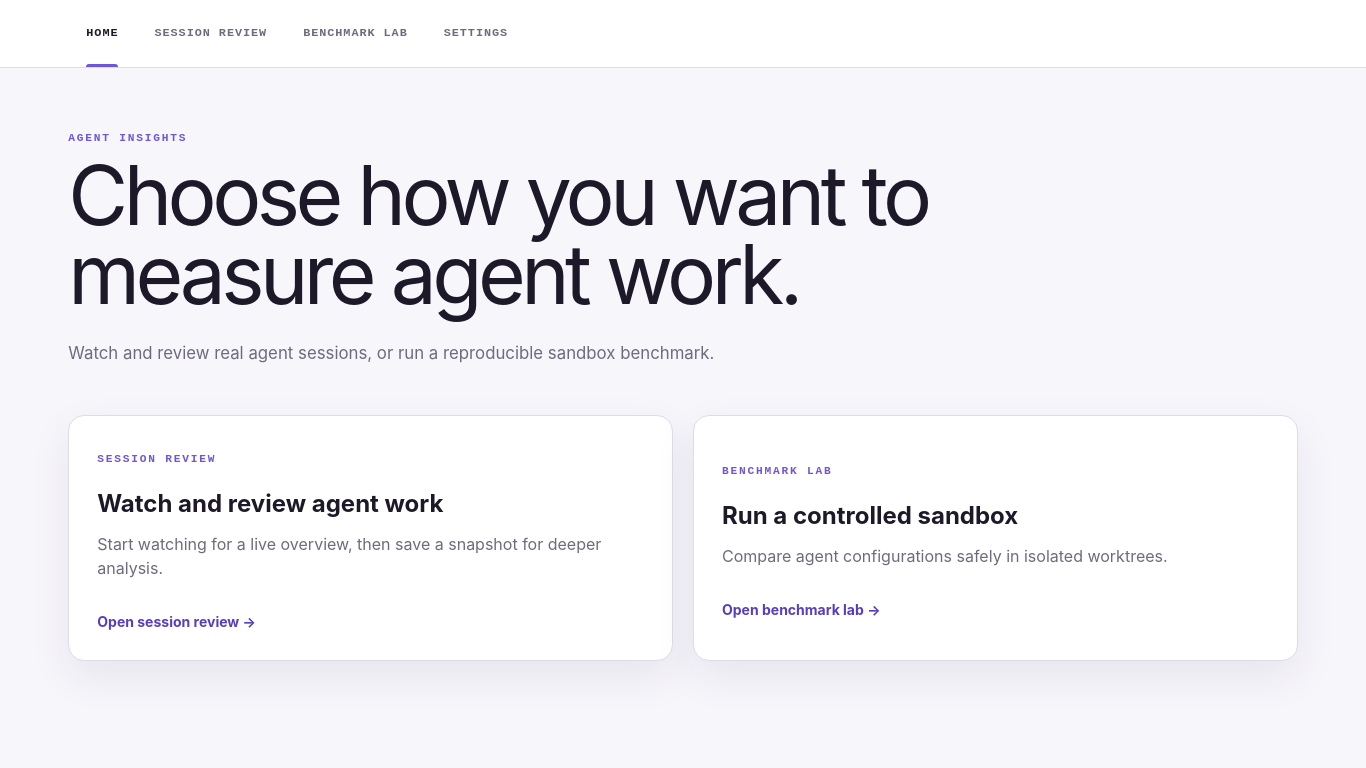
Scenario: shows only the latest run in Benchmark Lab and every run in Benchmark History
Click the button "Benchmark Lab".
click(355, 34)  # box x1=285 y1=0 x2=426 y2=67
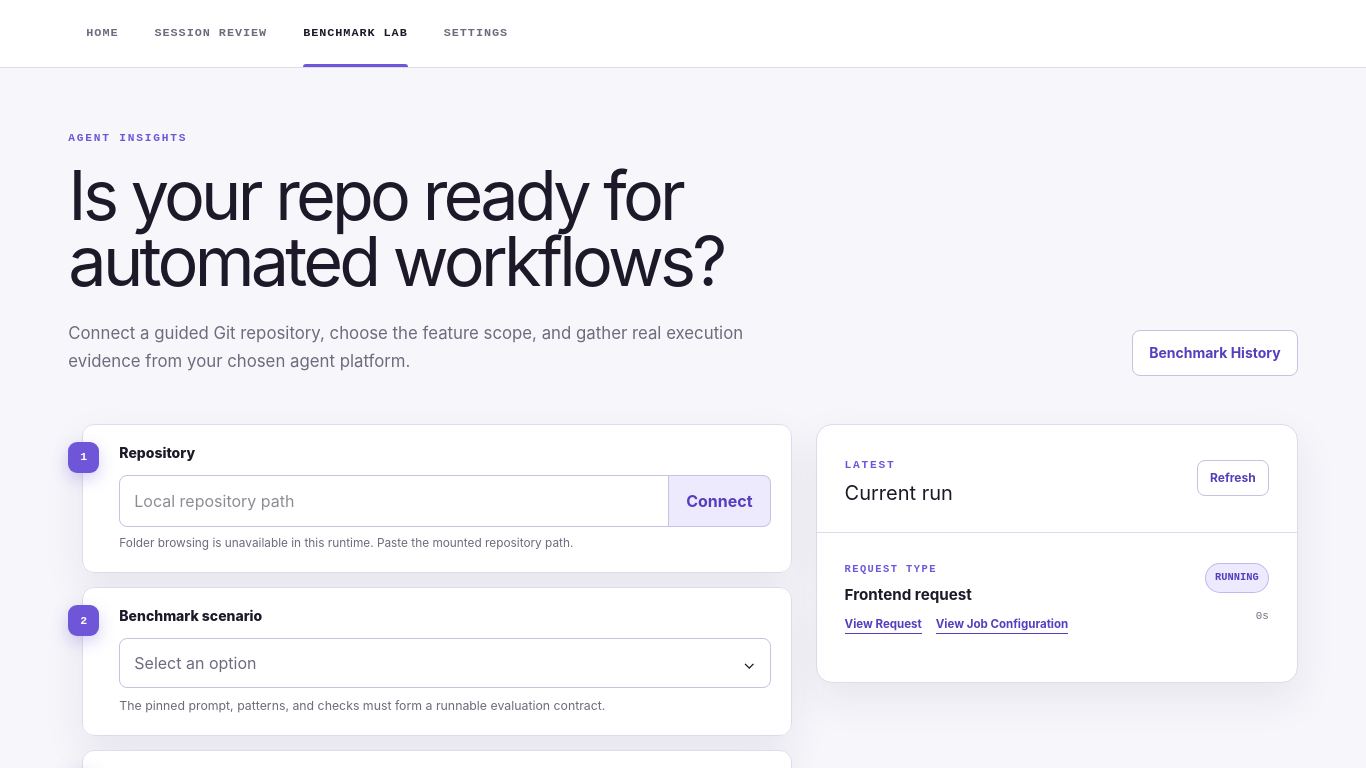
Expected: the text "interrupted" is not shown
Expected: the text "Frontend request" is shown, x1=844 y1=585 x2=972 y2=604
Click the button "View Request".
click(883, 625)  # box x1=844 y1=616 x2=922 y2=634
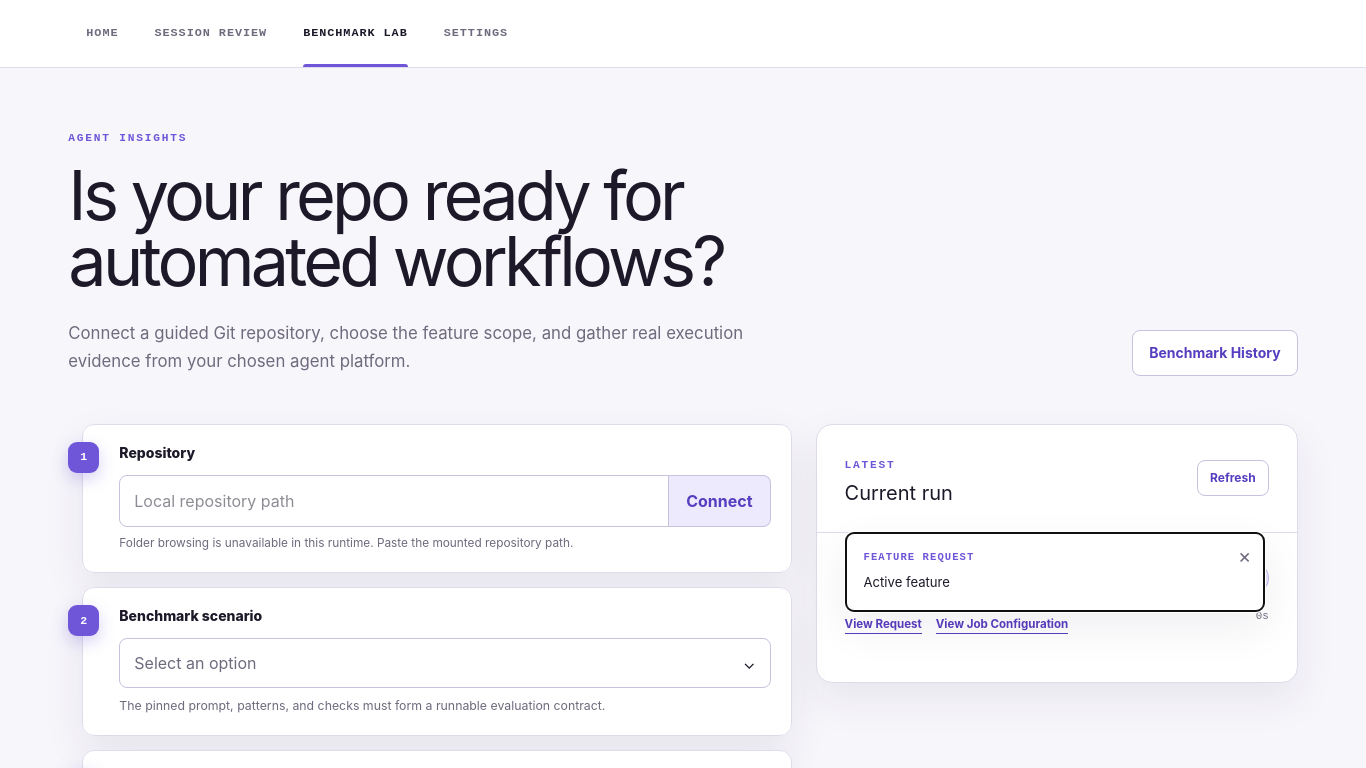
Expected: the dialog "Feature request" shows "Active feature", x1=864 y1=574 x2=950 y2=590
Press Escape
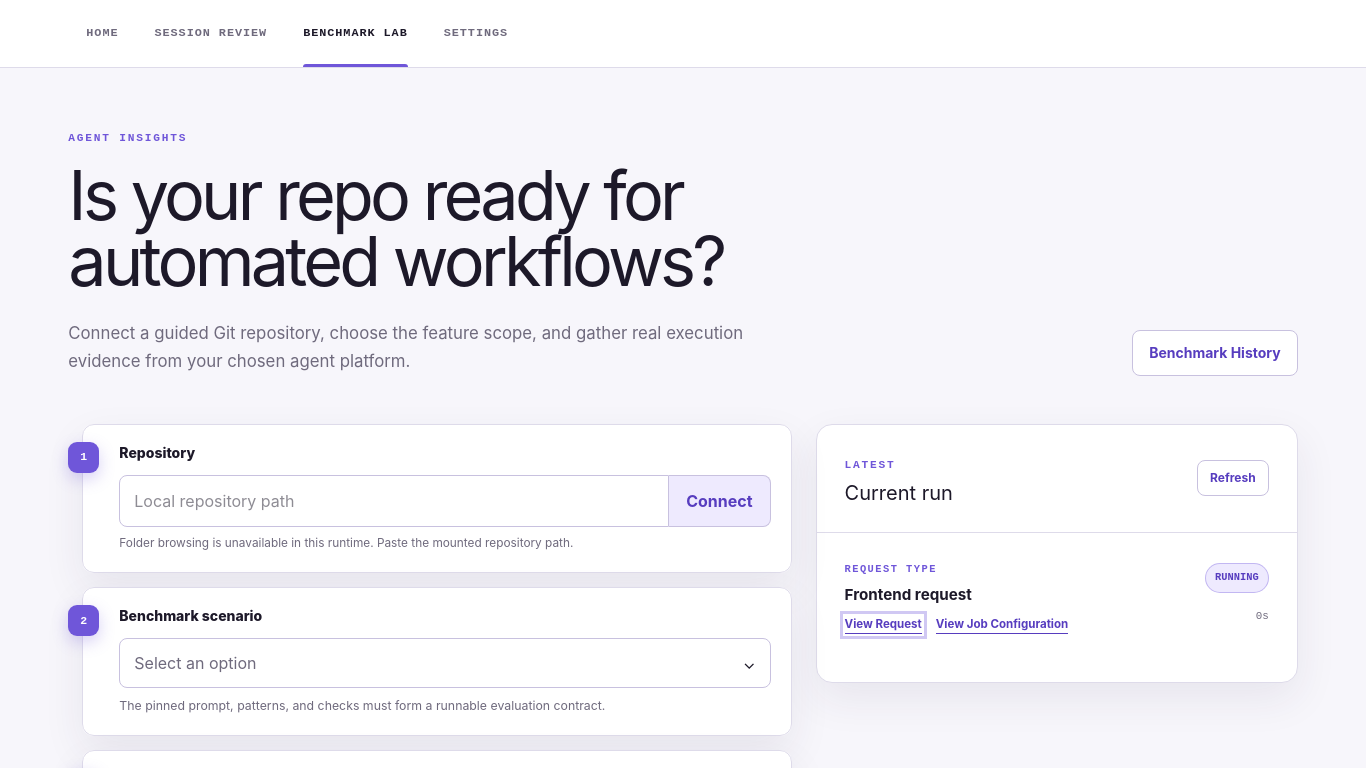
Click the button "Benchmark History".
click(1215, 353)  # box x1=1132 y1=330 x2=1298 y2=376
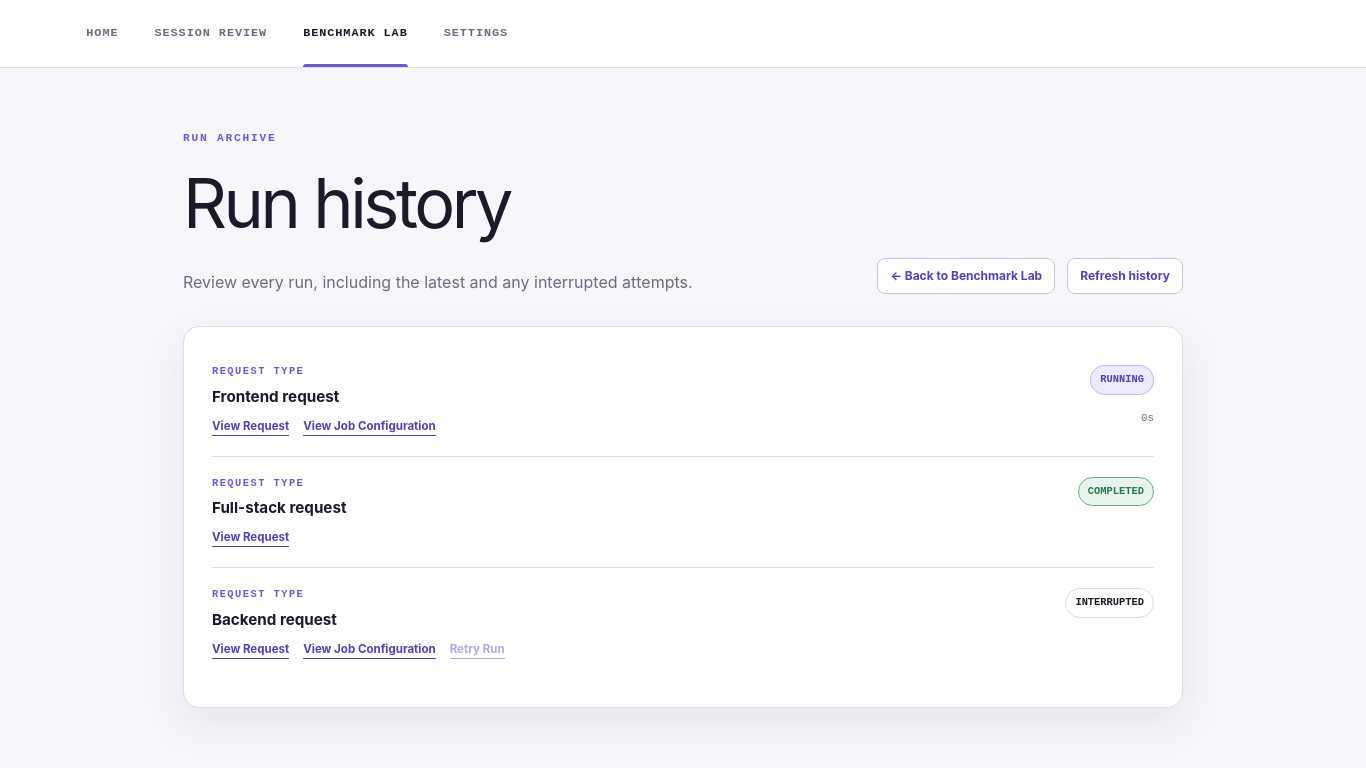
Expected: the text "Frontend request" is shown, x1=212 y1=387 x2=339 y2=406
Expected: the heading "Run history" is shown, x1=183 y1=162 x2=510 y2=244
Expected: the text "Full-stack request" is shown, x1=212 y1=497 x2=346 y2=520
Click the button "← Back to Benchmark Lab".
click(966, 276)  # box x1=877 y1=258 x2=1055 y2=294
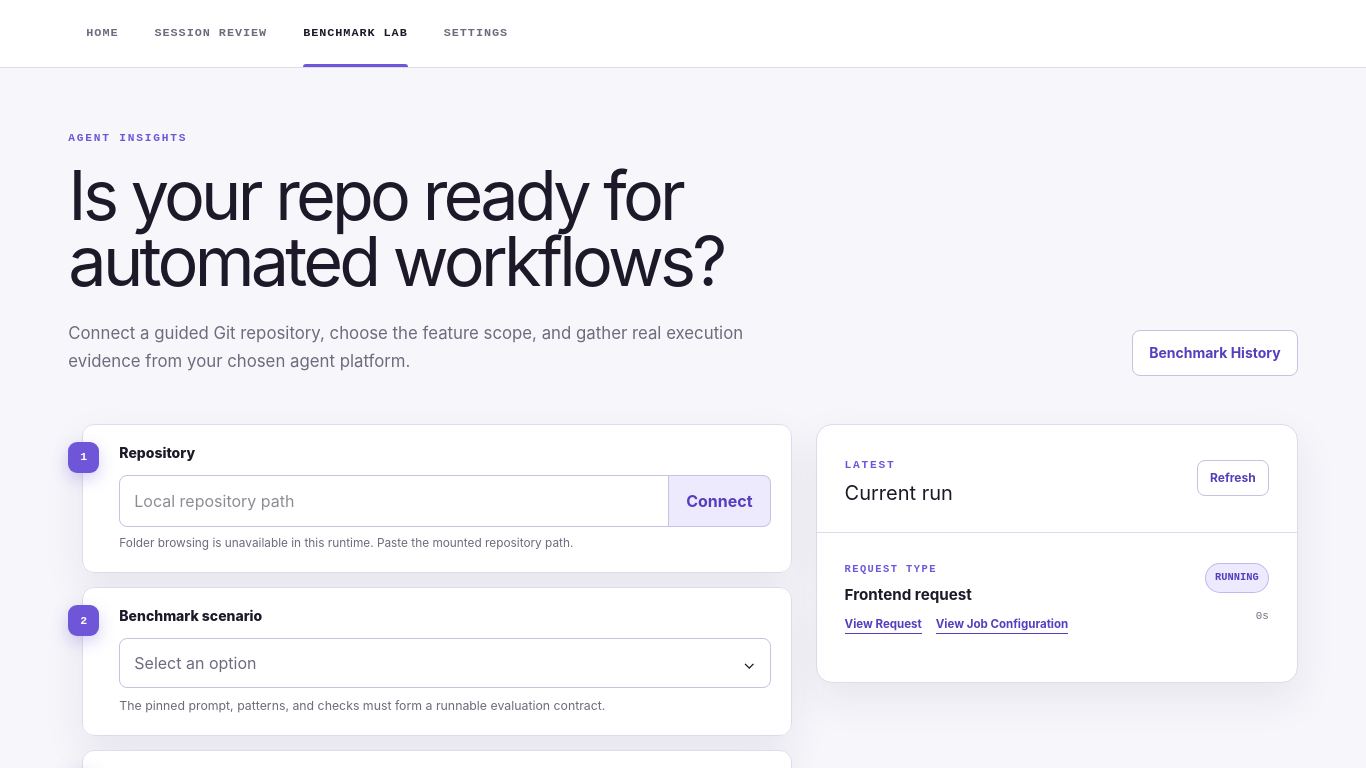
Expected: the heading "Is your repo ready for automated workflows?" is shown, x1=68 y1=154 x2=724 y2=302
